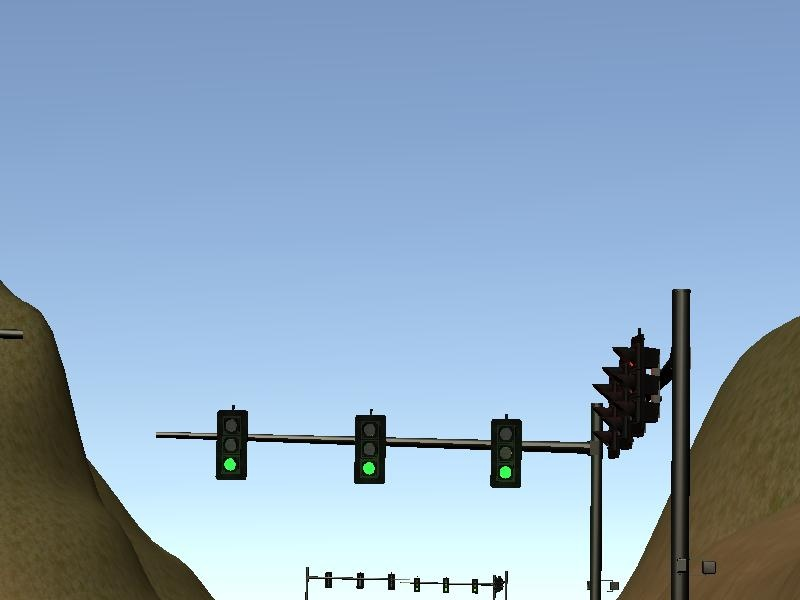GREEN: (489, 419, 522, 488), (216, 410, 247, 480), (355, 414, 386, 483)
